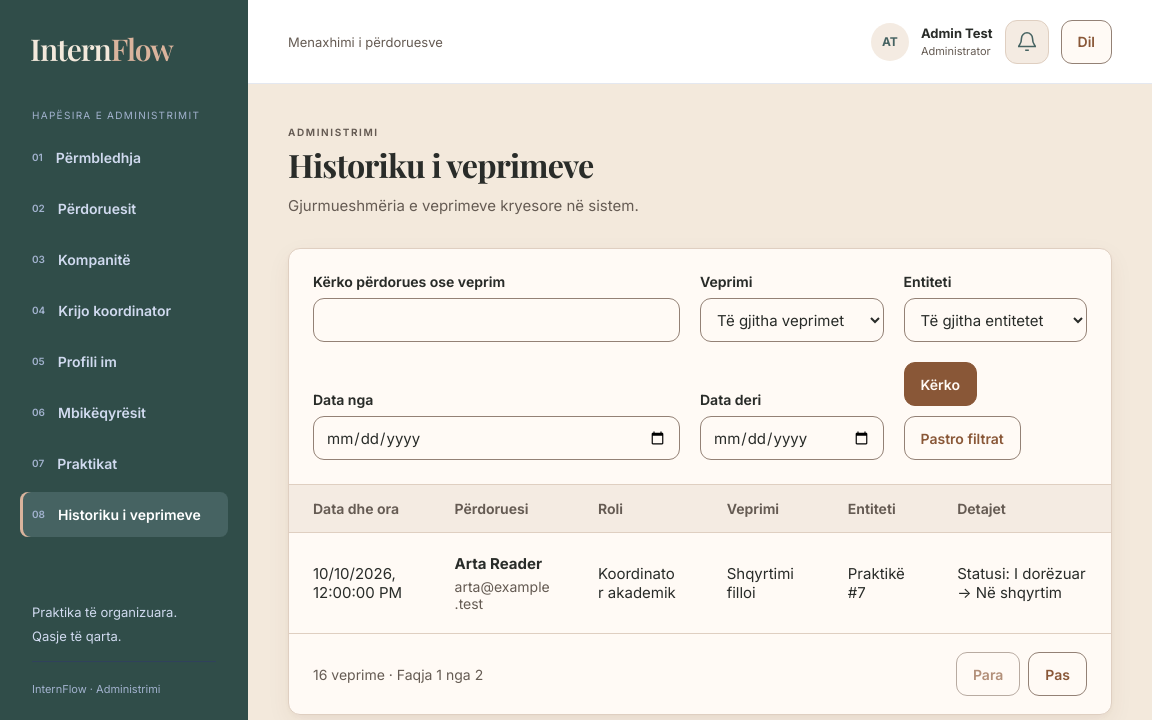
Test case: supports previous-page navigation
The width and height of the screenshot is (1152, 720).
Expected: the text "Arta Reader" is shown, [455, 554, 542, 573]
Expected: the button "Para" is disabled, [956, 652, 1020, 696]
What coordinates should you click on to do the following:
click the button "Pas"
I would click on:
 (1058, 674)
Its box is [1028, 652, 1087, 696].
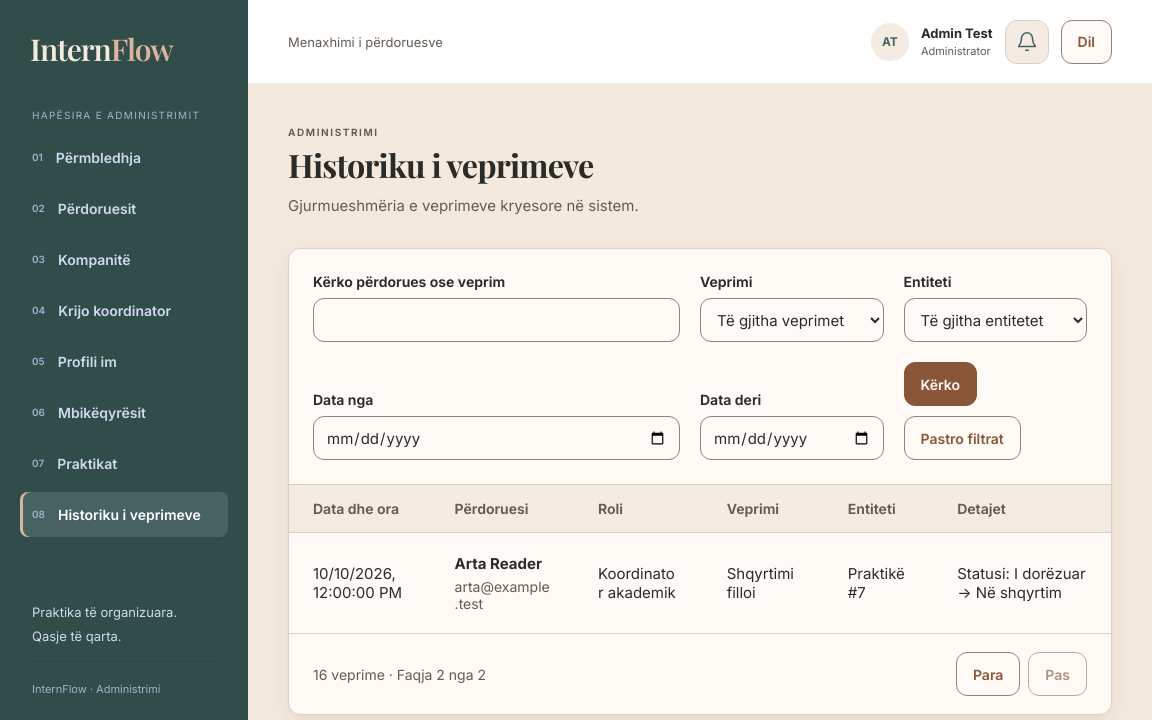
Now the text "16 veprime · Faqja 2 nga 2" is shown, box [313, 666, 486, 683]
What coordinates should you click on to do the following:
click the button "Para"
I would click on:
 (988, 674)
Its box is [956, 652, 1020, 696].
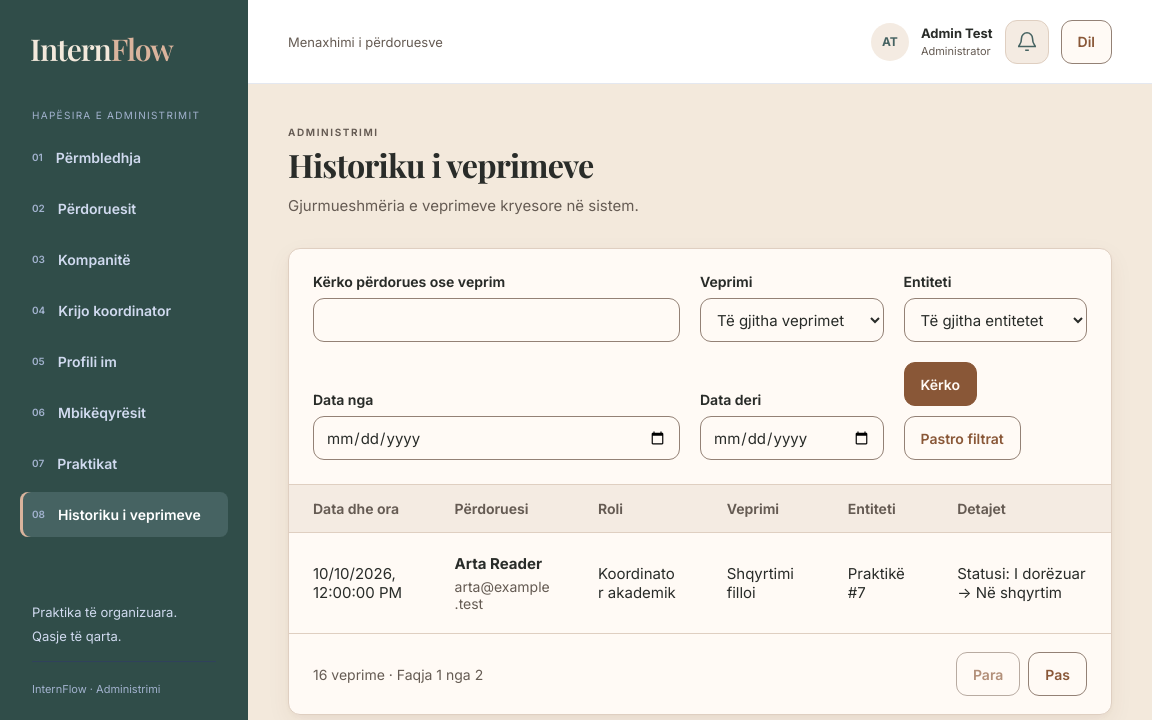
Now the text "16 veprime · Faqja 1 nga 2" is shown, box [313, 666, 483, 683]
